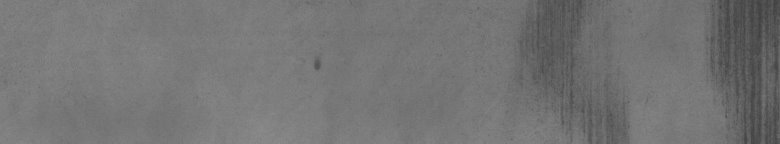ka: (706, 4, 776, 136)
